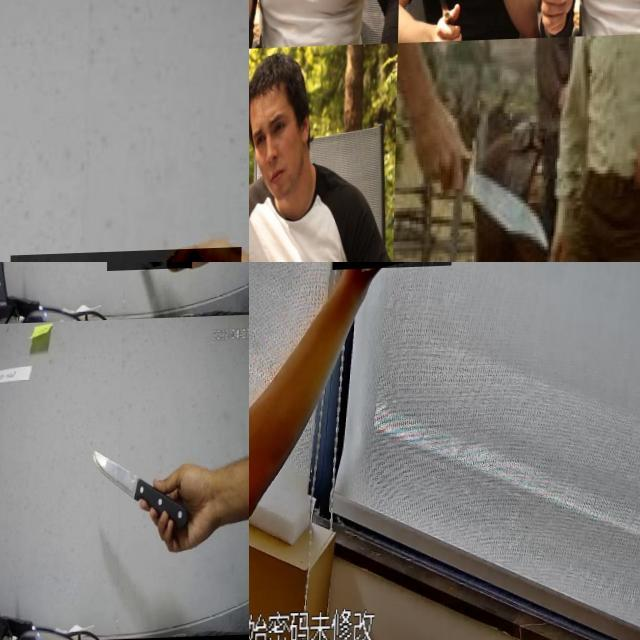-: (426, 125, 555, 257), (91, 441, 192, 528), (108, 262, 195, 338), (429, 0, 465, 43), (249, 0, 268, 47), (249, 213, 264, 262)
gun-knife-thesis - v11 Yolov5 augmented: (333, 262, 456, 379)
